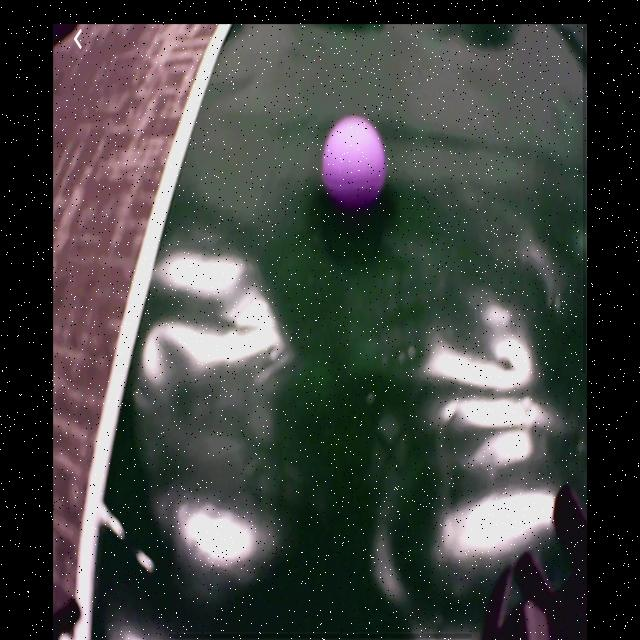ball: (324, 120, 387, 212)
